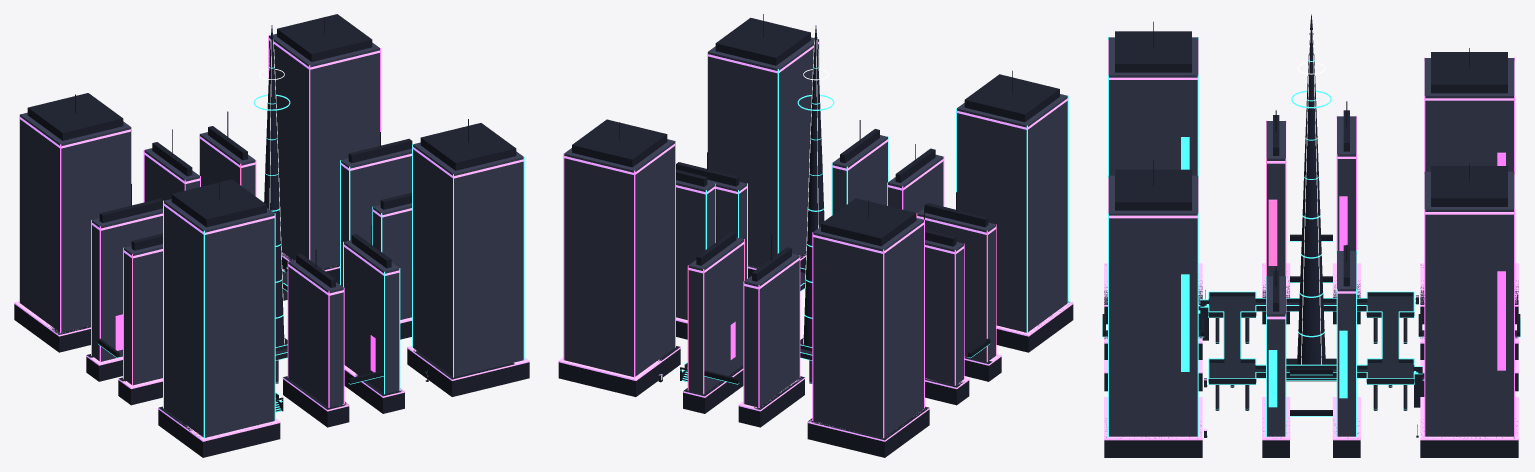
3 renders of one model, left to right at view 1: azimuth 30°, elevation 25°; view 2: azimuth 150°, elevation 25°; view 3: azimuth 270°, elevation 25°, orthographic. The views are drawn at different scales.
Visible parts, largest first — view 1: district_city_cero.lod0; view 2: district_city_cero.lod0; view 3: district_city_cero.lod0.
Part boxes in pixels (left/top/right/bottom): district_city_cero.lod0: left=14, top=14, right=529, bottom=457; district_city_cero.lod0: left=558, top=14, right=1073, bottom=457; district_city_cero.lod0: left=1102, top=14, right=1520, bottom=457.
Bounding box in the file's own units: 97.84 × 92 × 97.84.
